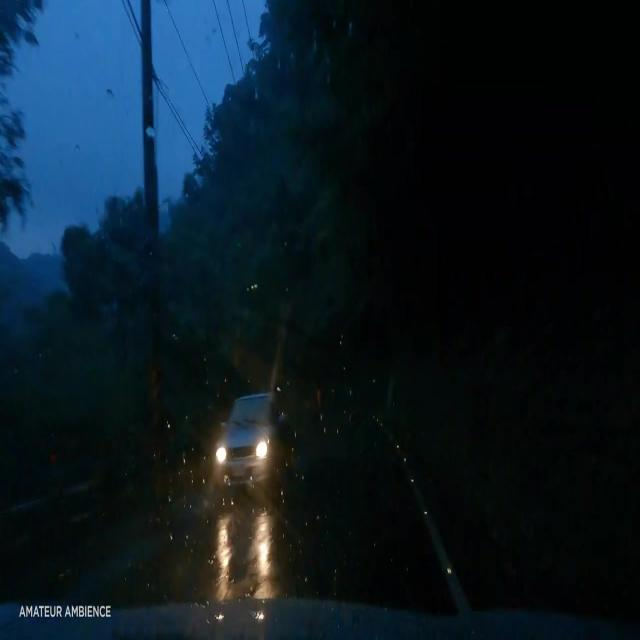Car: (215, 388, 288, 495)
